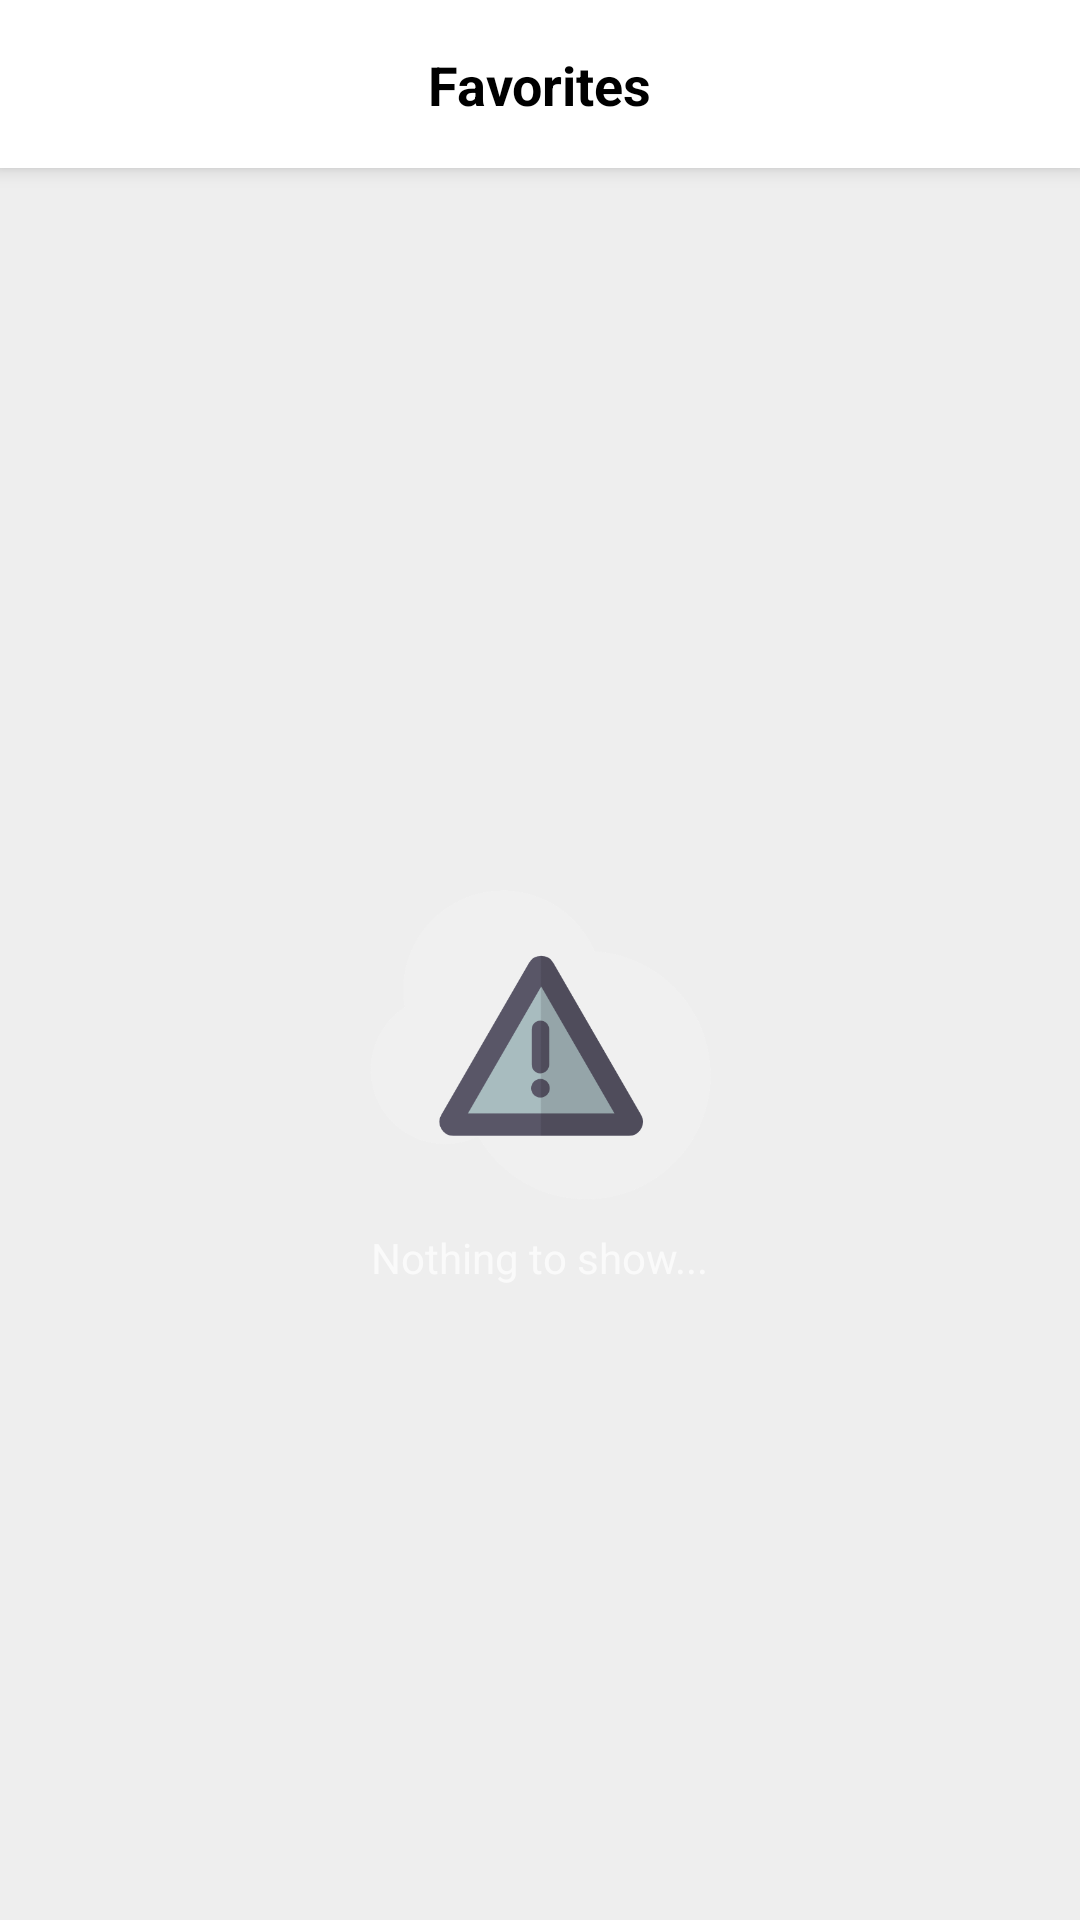

Icon bounding boxes for this 1080px x 1920px phone screenshot, format (x1, y1, x2, y2):
something went wrong: (439, 956, 643, 1136)
